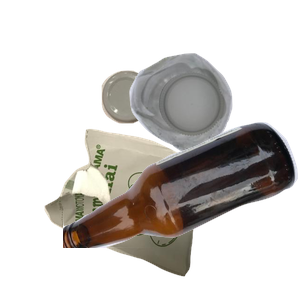glass: (63, 120, 300, 300)
metal: (99, 68, 244, 184)
plastic: (127, 51, 300, 197)
trash: (42, 126, 249, 300)
